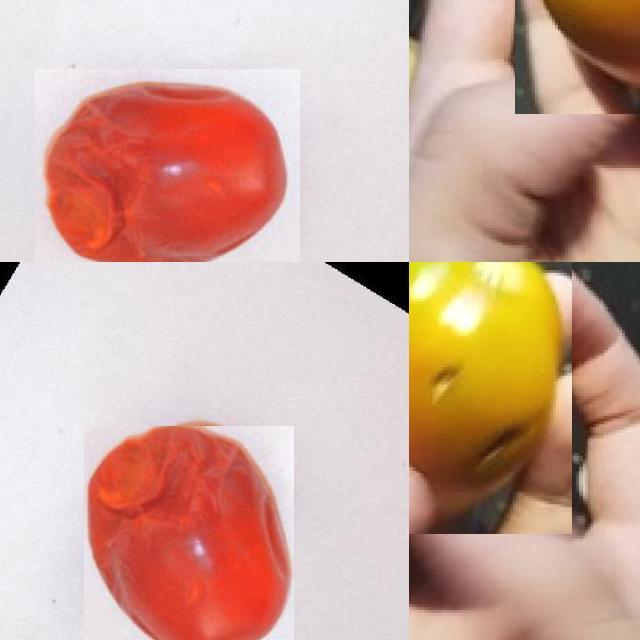Rotten Tomato: (35, 68, 299, 262), (83, 425, 294, 640), (409, 262, 571, 533), (515, 0, 640, 113)
